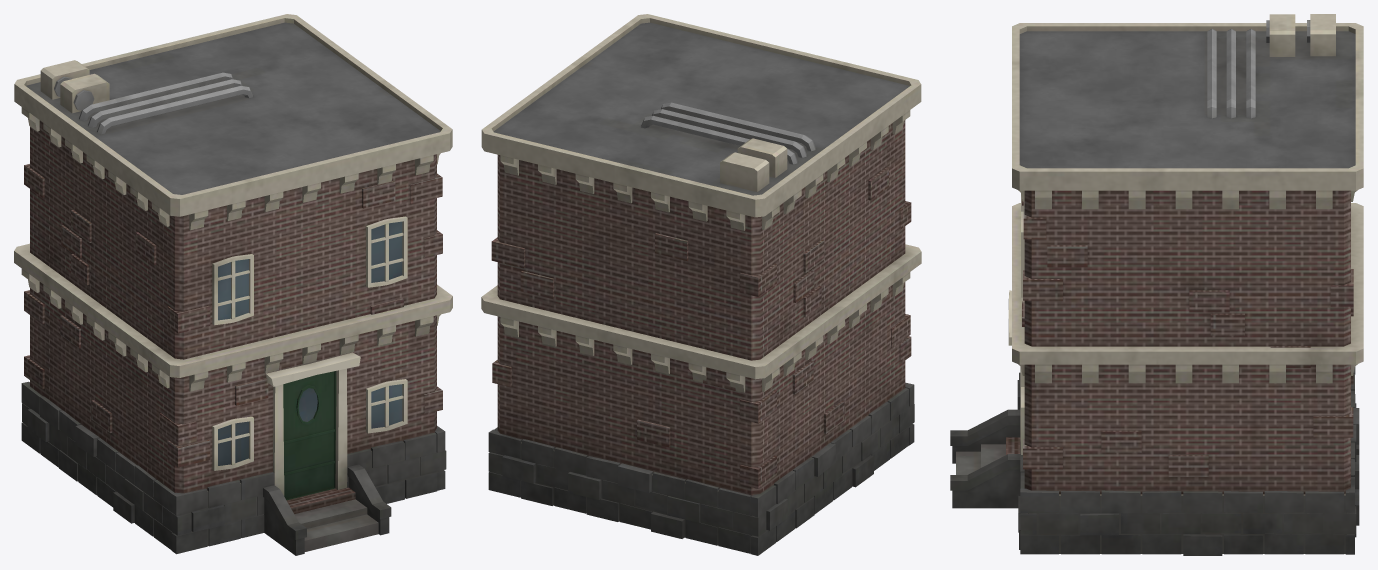
The model's file is 2Story_Stairs.glb.
3 views of the same model, side by side, from view 1: azimuth 30°, elevation 25°; view 2: azimuth 150°, elevation 25°; view 3: azimuth 270°, elevation 25° (orthographic). The views are drawn at different scales.
Visible parts, largest first — view 1: 2Story_Stairs_medium; view 2: 2Story_Stairs_medium; view 3: 2Story_Stairs_medium.
Part boxes in pixels (x1=…): 2Story_Stairs_medium: x1=14, y1=14, x2=452, y2=555; 2Story_Stairs_medium: x1=481, y1=14, x2=921, y2=555; 2Story_Stairs_medium: x1=950, y1=14, x2=1363, y2=555.
Bounding box in the file's own units: 2.16 × 2.75 × 2.53.
2 materials, 2 textured.
